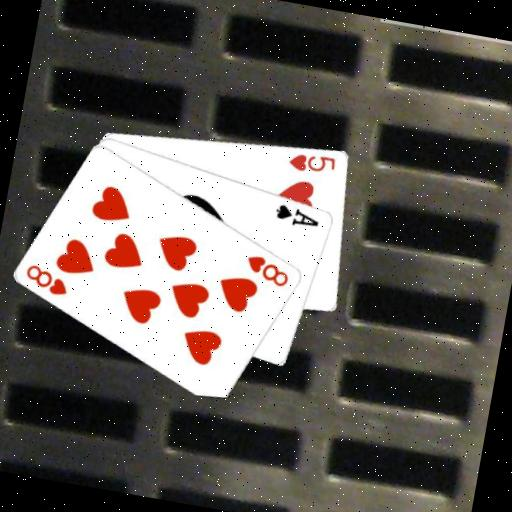5H: (285, 145, 339, 177)
8H: (241, 250, 294, 289), (20, 260, 73, 298)
AS: (271, 200, 323, 231)
